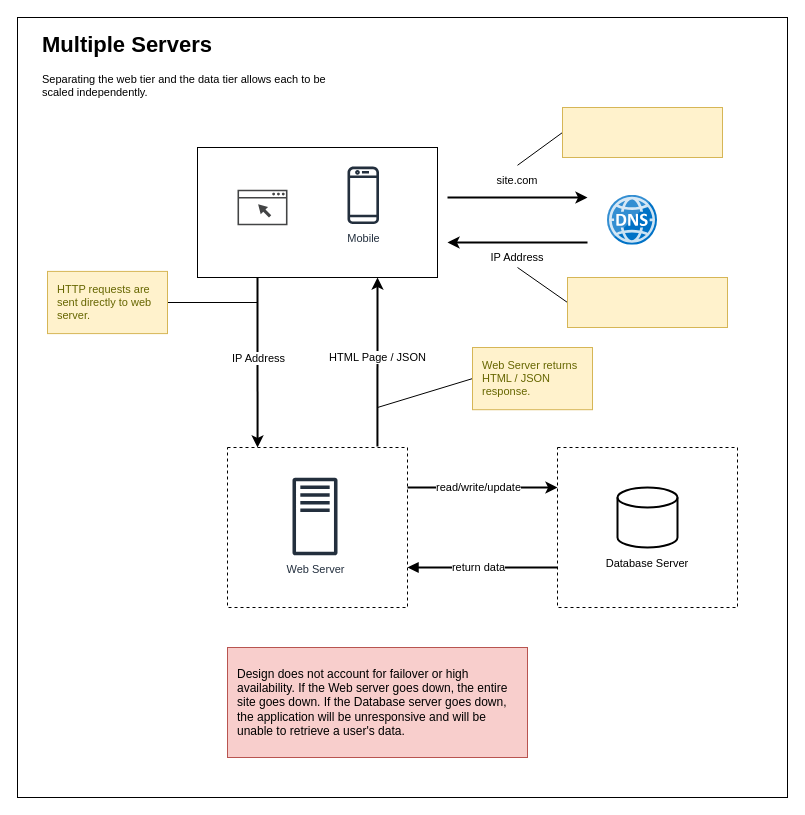
The diagram is 805 pixels wide and 815 high, and some of its shapes have lost their labels. The box of each missing label's shape, as (x1, y1, x2, y2) in pixels:
Browser: (237, 189, 287, 225)
Unique IP address is returned to client by DNS (Domain Name Server): (566, 276, 728, 328)
Users access website through domain names: (562, 106, 722, 158)
